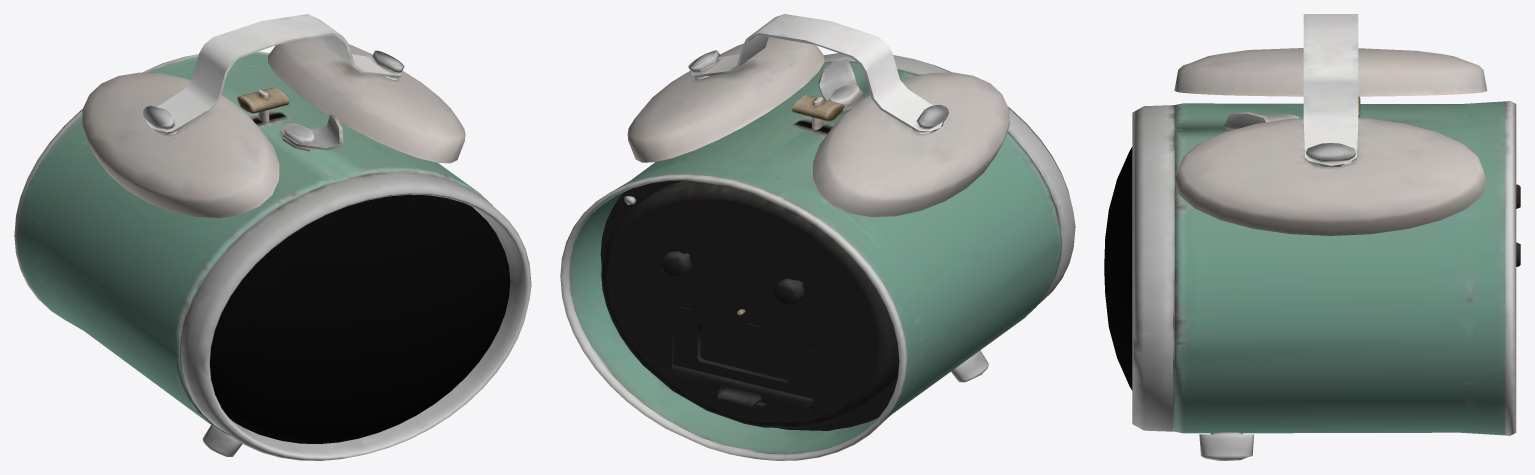
File: ph-alarm-clock-01.glb
3 views of the same model, side by side, from view 1: azimuth 30°, elevation 25°; view 2: azimuth 150°, elevation 25°; view 3: azimuth 270°, elevation 25° (orthographic). The views are drawn at different scales.
Parts seen in each view (by area): view 1: alarm_clock_01; view 2: alarm_clock_01; view 3: alarm_clock_01.
Part boxes in pixels (x1,y1,x2,y2): alarm_clock_01: (14,14,531,460); alarm_clock_01: (560,14,1075,460); alarm_clock_01: (1104,14,1520,460).
Bounding box in the file's own units: 1 × 1 × 1.
Materials: 2 (2 with a texture image).
